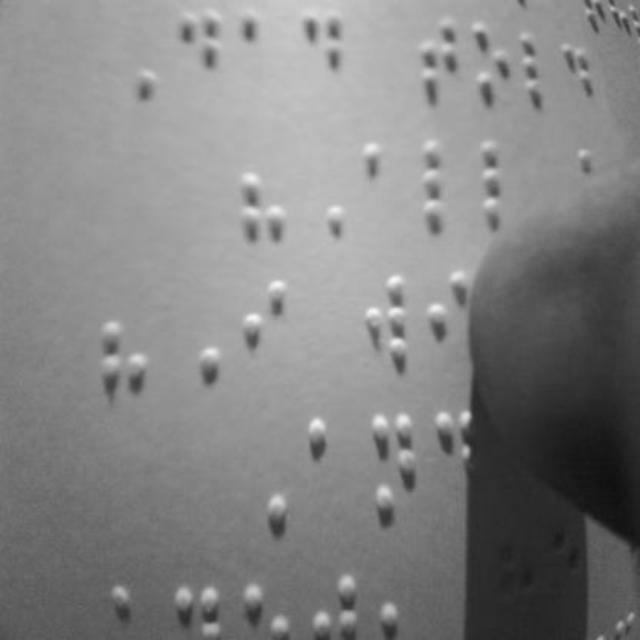braiile: (237, 272, 293, 388), (434, 404, 490, 520), (375, 410, 431, 522), (310, 412, 366, 520), (478, 136, 538, 232), (422, 264, 474, 372), (299, 4, 355, 104), (360, 271, 416, 371), (174, 1, 226, 105), (360, 136, 416, 232), (412, 2, 464, 102), (236, 4, 288, 100), (420, 136, 472, 232), (468, 5, 516, 105), (519, 24, 557, 104)
